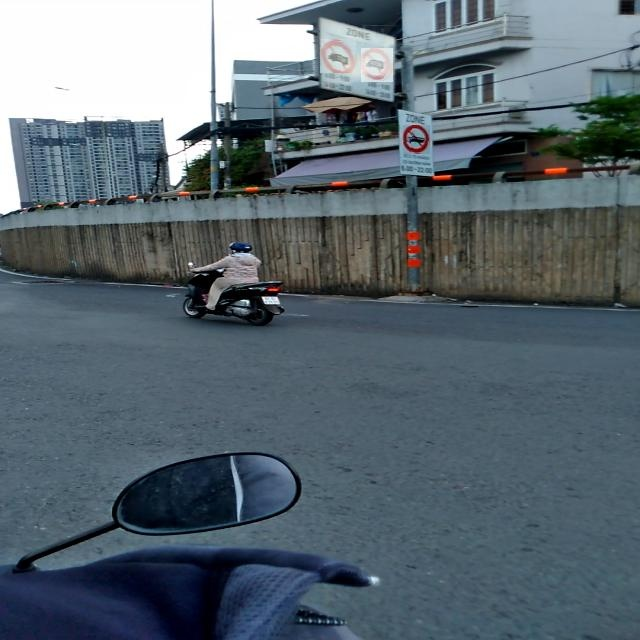bien_cam: (321, 39, 356, 73), (361, 48, 393, 82), (403, 125, 430, 154)
